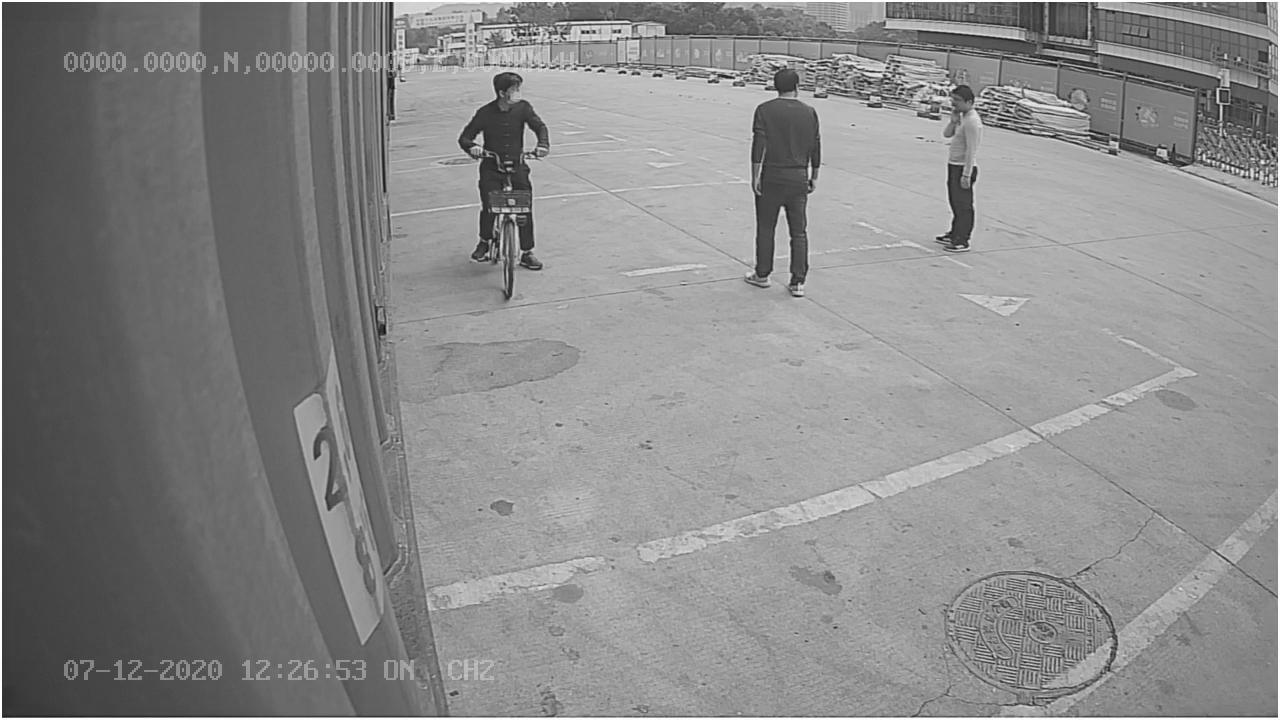person: (735, 65, 827, 297)
